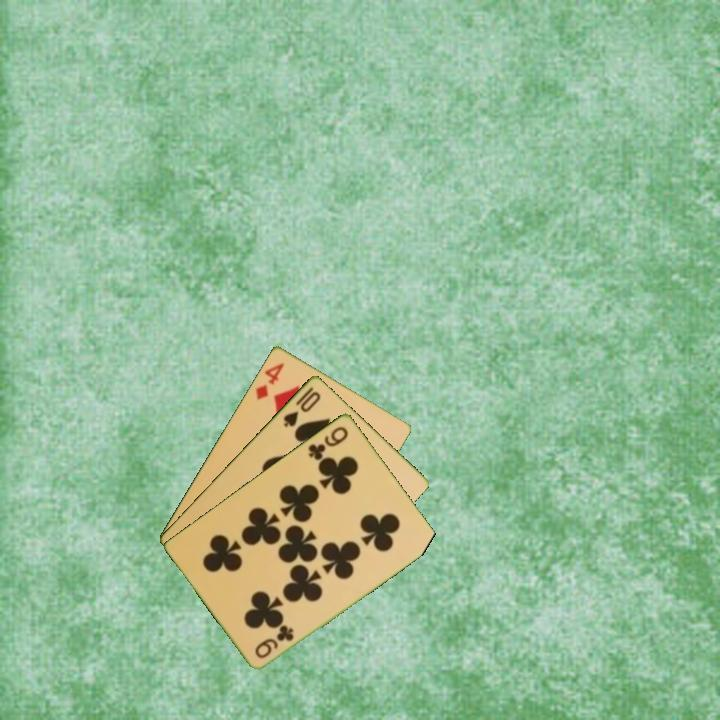10s: (280, 383, 324, 430)
4d: (252, 359, 287, 403)
9c: (305, 422, 351, 463), (251, 622, 297, 661)
